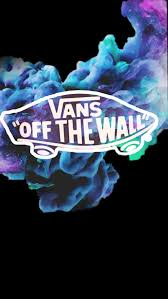vans: (47, 97, 103, 119)
